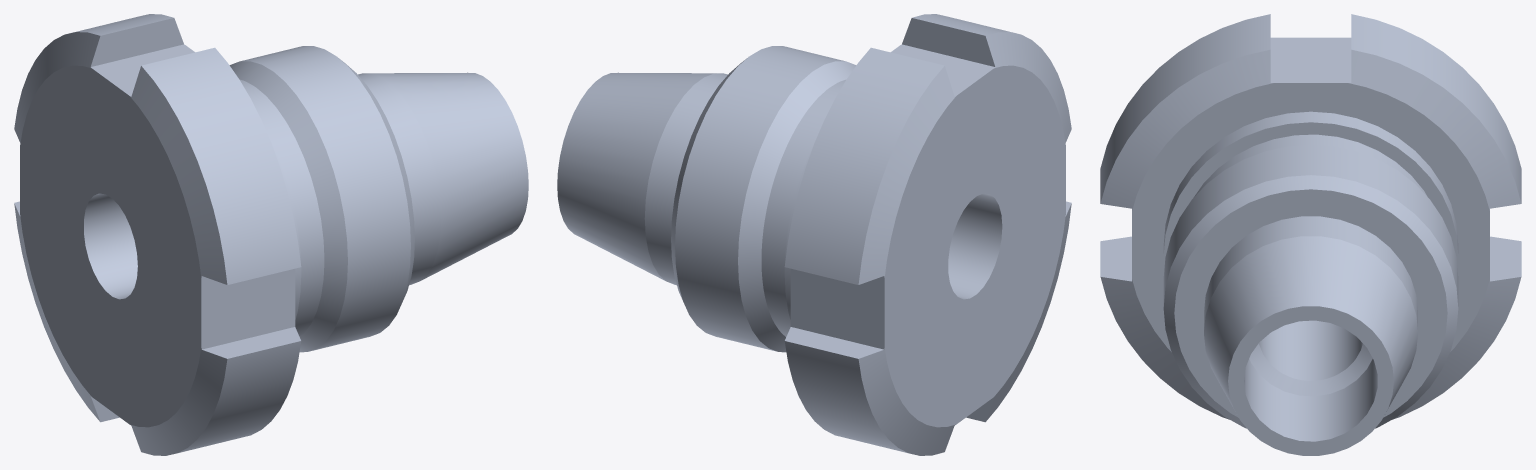
Rendered from Knukle_Fitting.gltf.
The picture shows the model from 3 angles, left to right: view 1: azimuth 30°, elevation 25°; view 2: azimuth 150°, elevation 25°; view 3: azimuth 270°, elevation 25°; orthographic projection.
Visible parts, largest first — view 1: Knukle Fitting; view 2: Knukle Fitting; view 3: Knukle Fitting.
Part boxes in pixels (box(x1,y1,x2,y2)): Knukle Fitting: box(14, 14, 528, 455); Knukle Fitting: box(557, 14, 1071, 455); Knukle Fitting: box(1100, 14, 1521, 455).
Bounding box in the file's own units: 0.0508 × 0.0499 × 0.0499.
